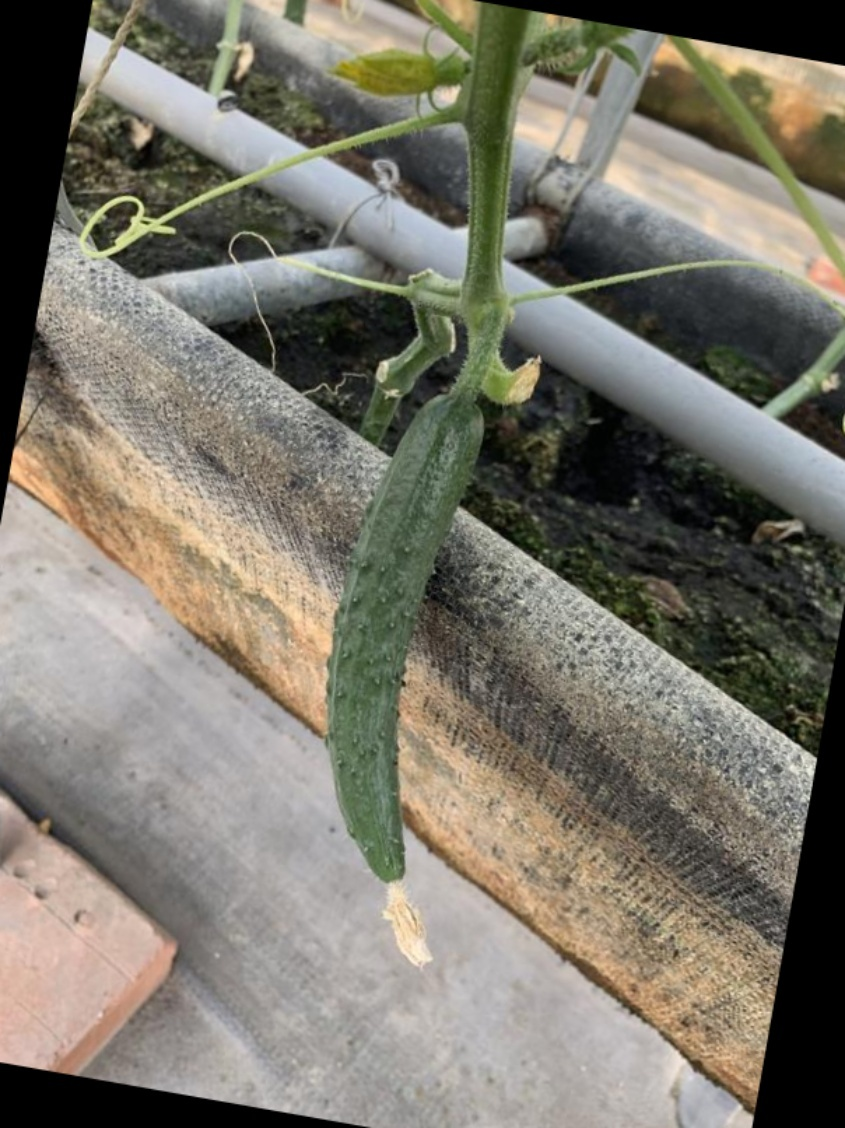growth: (304, 387, 496, 983)
